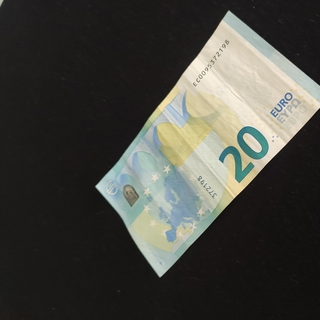20EUROBack: (94, 8, 320, 278)
